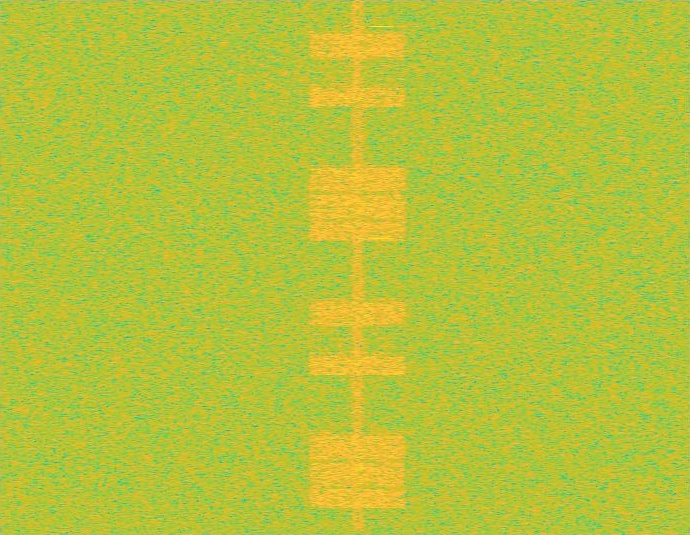DSSS: (351, 0, 365, 534)
LTE: (306, 0, 409, 534)
Radar: (374, 0, 388, 534)
